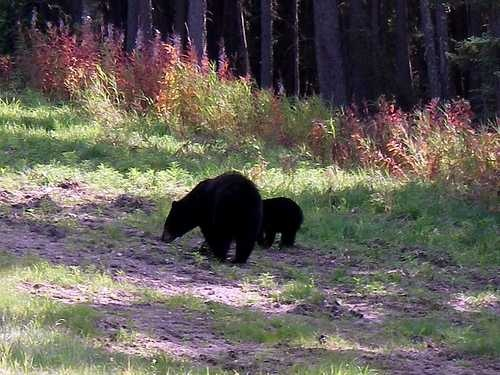bear: (150, 150, 278, 278)
